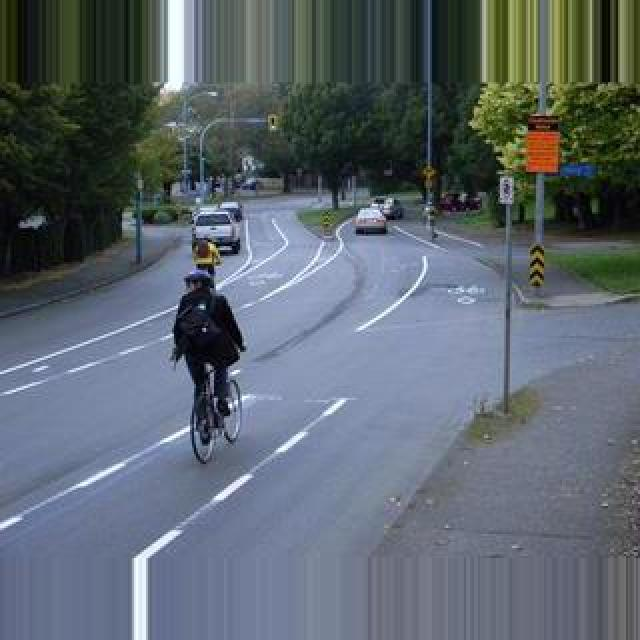Bus-Bike: (192, 210, 242, 256), (354, 208, 388, 236), (380, 198, 404, 220)
MC-Bike: (172, 272, 244, 426)
Person: (186, 358, 242, 464)
